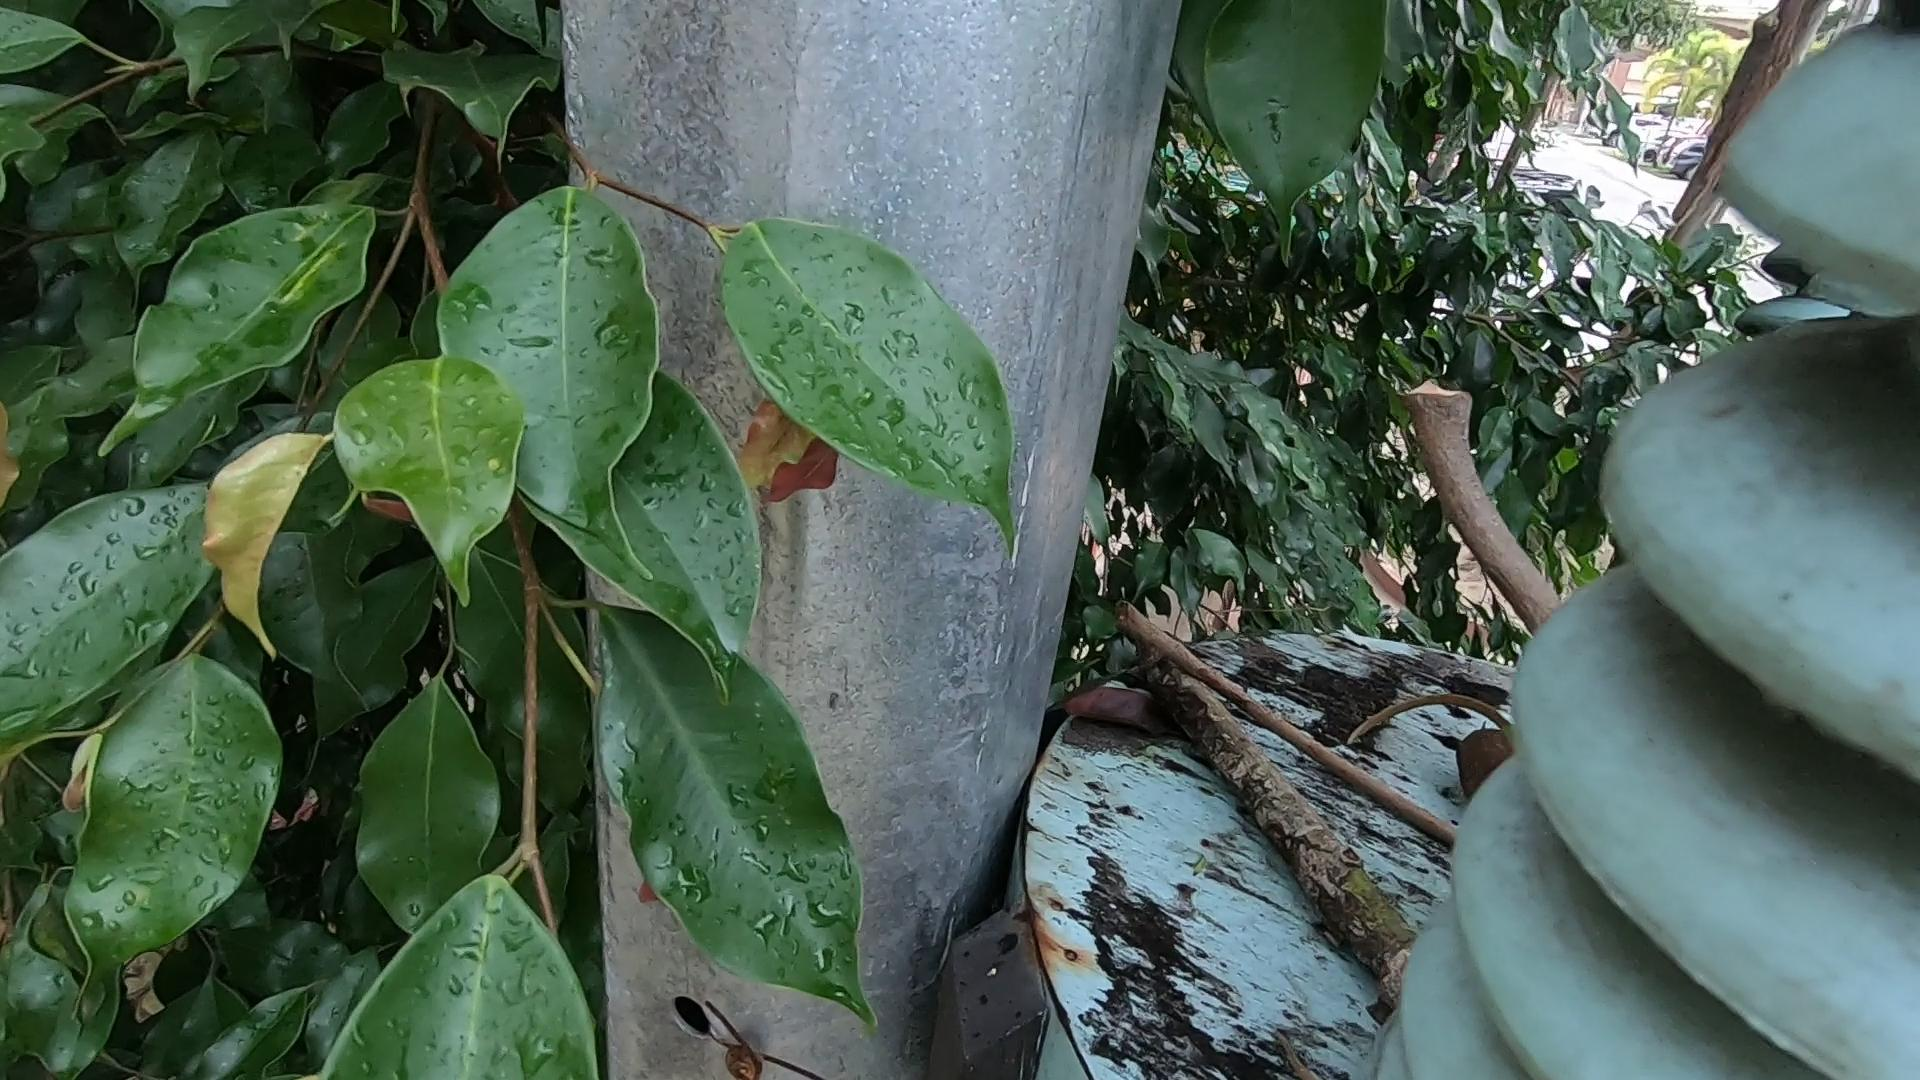branch with leaves: (1156, 649, 1433, 996)
leaf: (1025, 661, 1218, 742)
tree branch: (1106, 596, 1456, 828), (1425, 332, 1572, 680)
